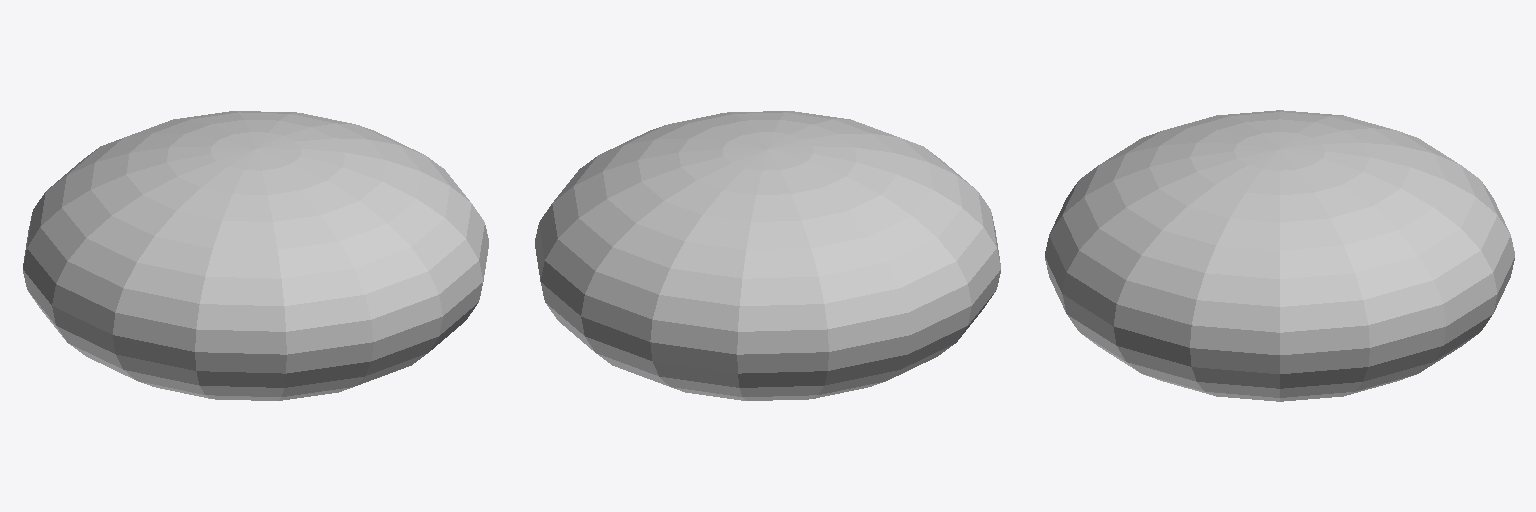
The model's file is sphere_complex.obj.
The picture shows the model from 3 angles: view 1: azimuth 30°, elevation 25°; view 2: azimuth 150°, elevation 25°; view 3: azimuth 270°, elevation 25°; orthographic projection.
Parts seen in each view (by area): view 1: Sphere; view 2: Sphere; view 3: Sphere.
Boxes of the visible parts, x1,y1,x2,y2 form: Sphere: [23, 111, 488, 400]; Sphere: [535, 111, 1000, 400]; Sphere: [1045, 110, 1514, 401].
Size of the model in its own units: 1.5 by 0.75 by 1.5.